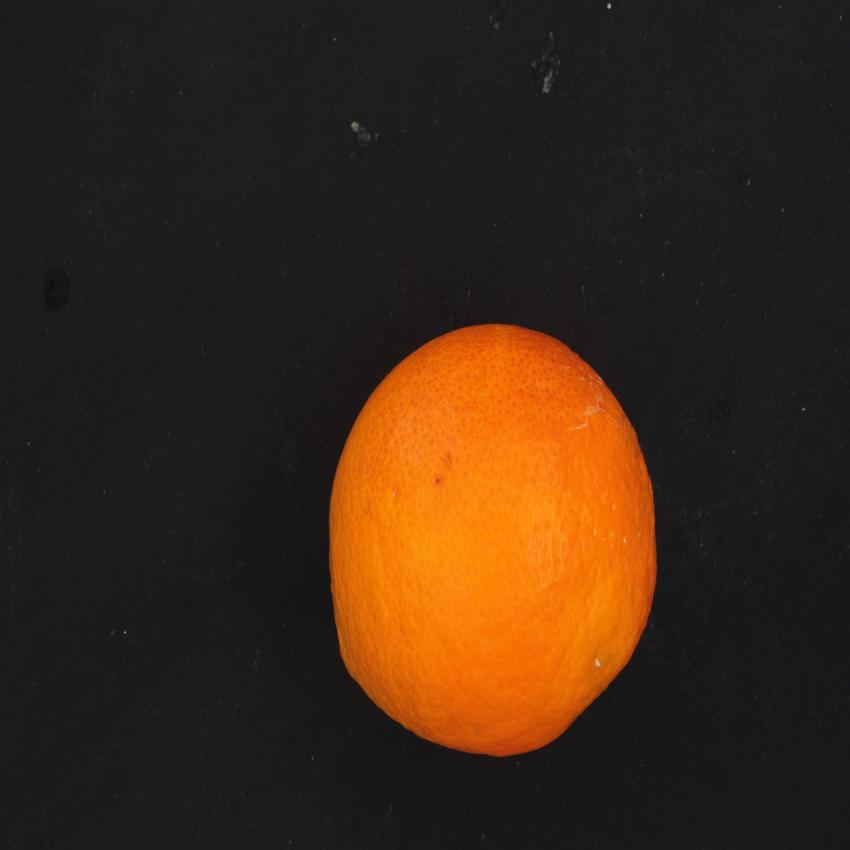Mal estado: (317, 314, 662, 773)
